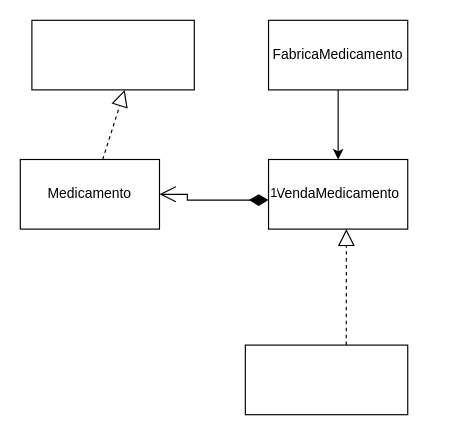
This 449x435 diagram has some shape labels left out. Each missing label, with the centre of its shape:
"CaixaTesteFarmacia" belongs at point (326, 379).
"MedicamentoFlyweigth" belongs at point (112, 54).
